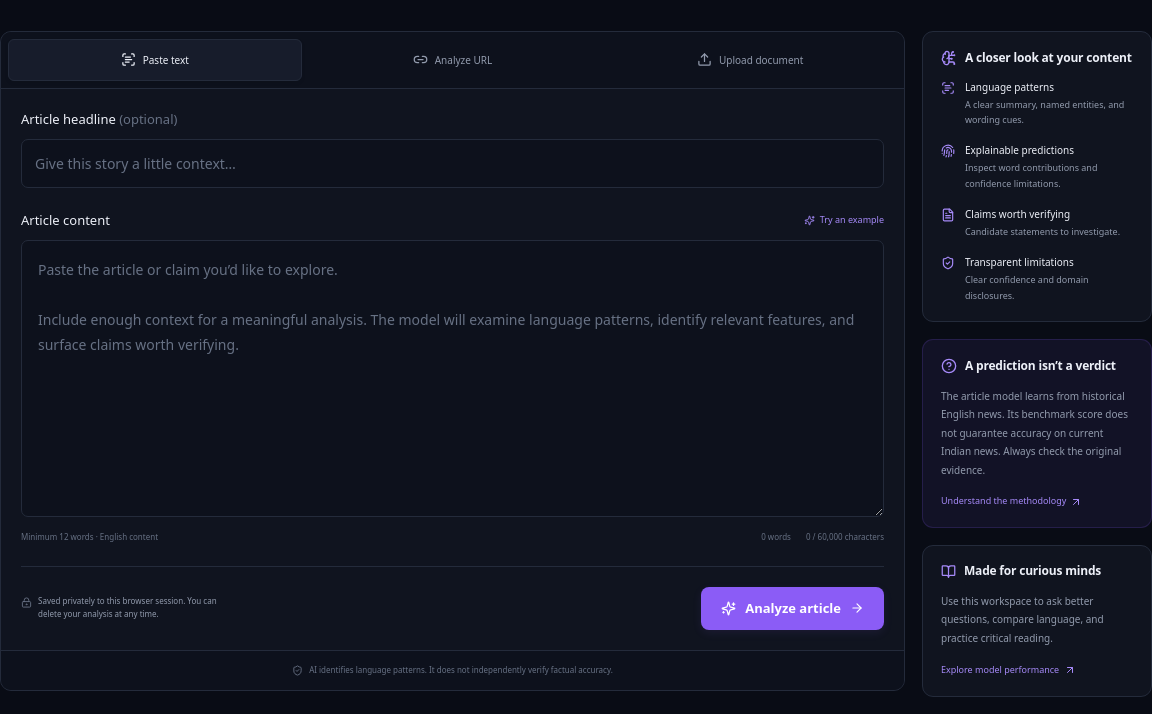
Scenario: validates short content before making requests
(page scrolled)
Click the button "Analyze article" at (793, 608), box [701,587,884,630]
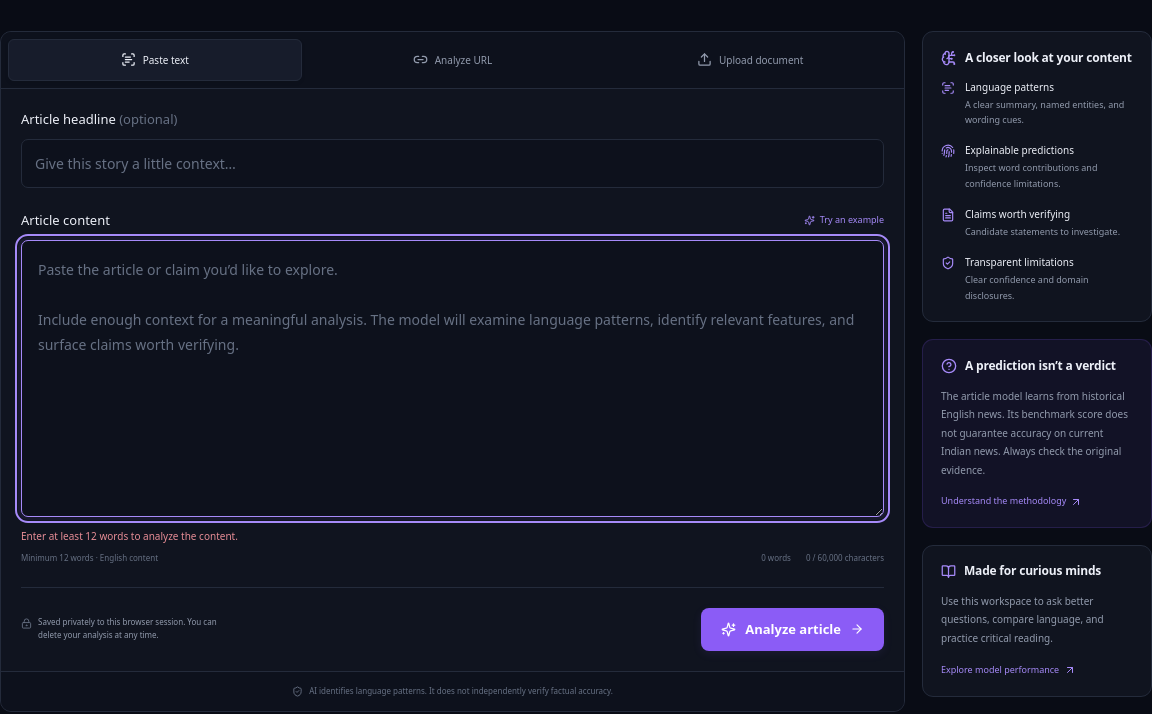
Expected: the message shows "at least 12 words", [21,529,238,543]
